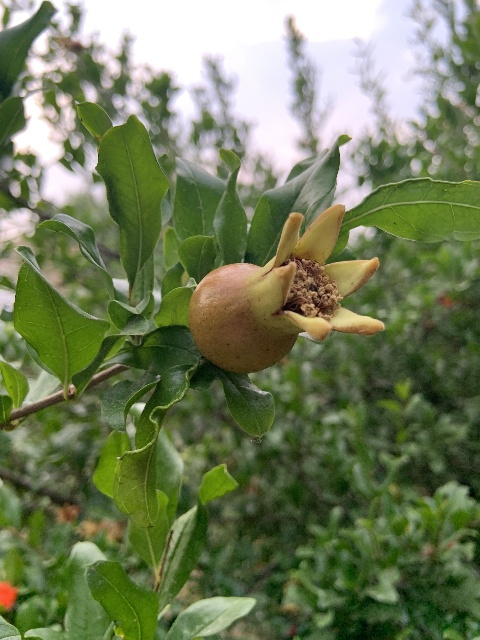early-fruit: (188, 205, 385, 376)
